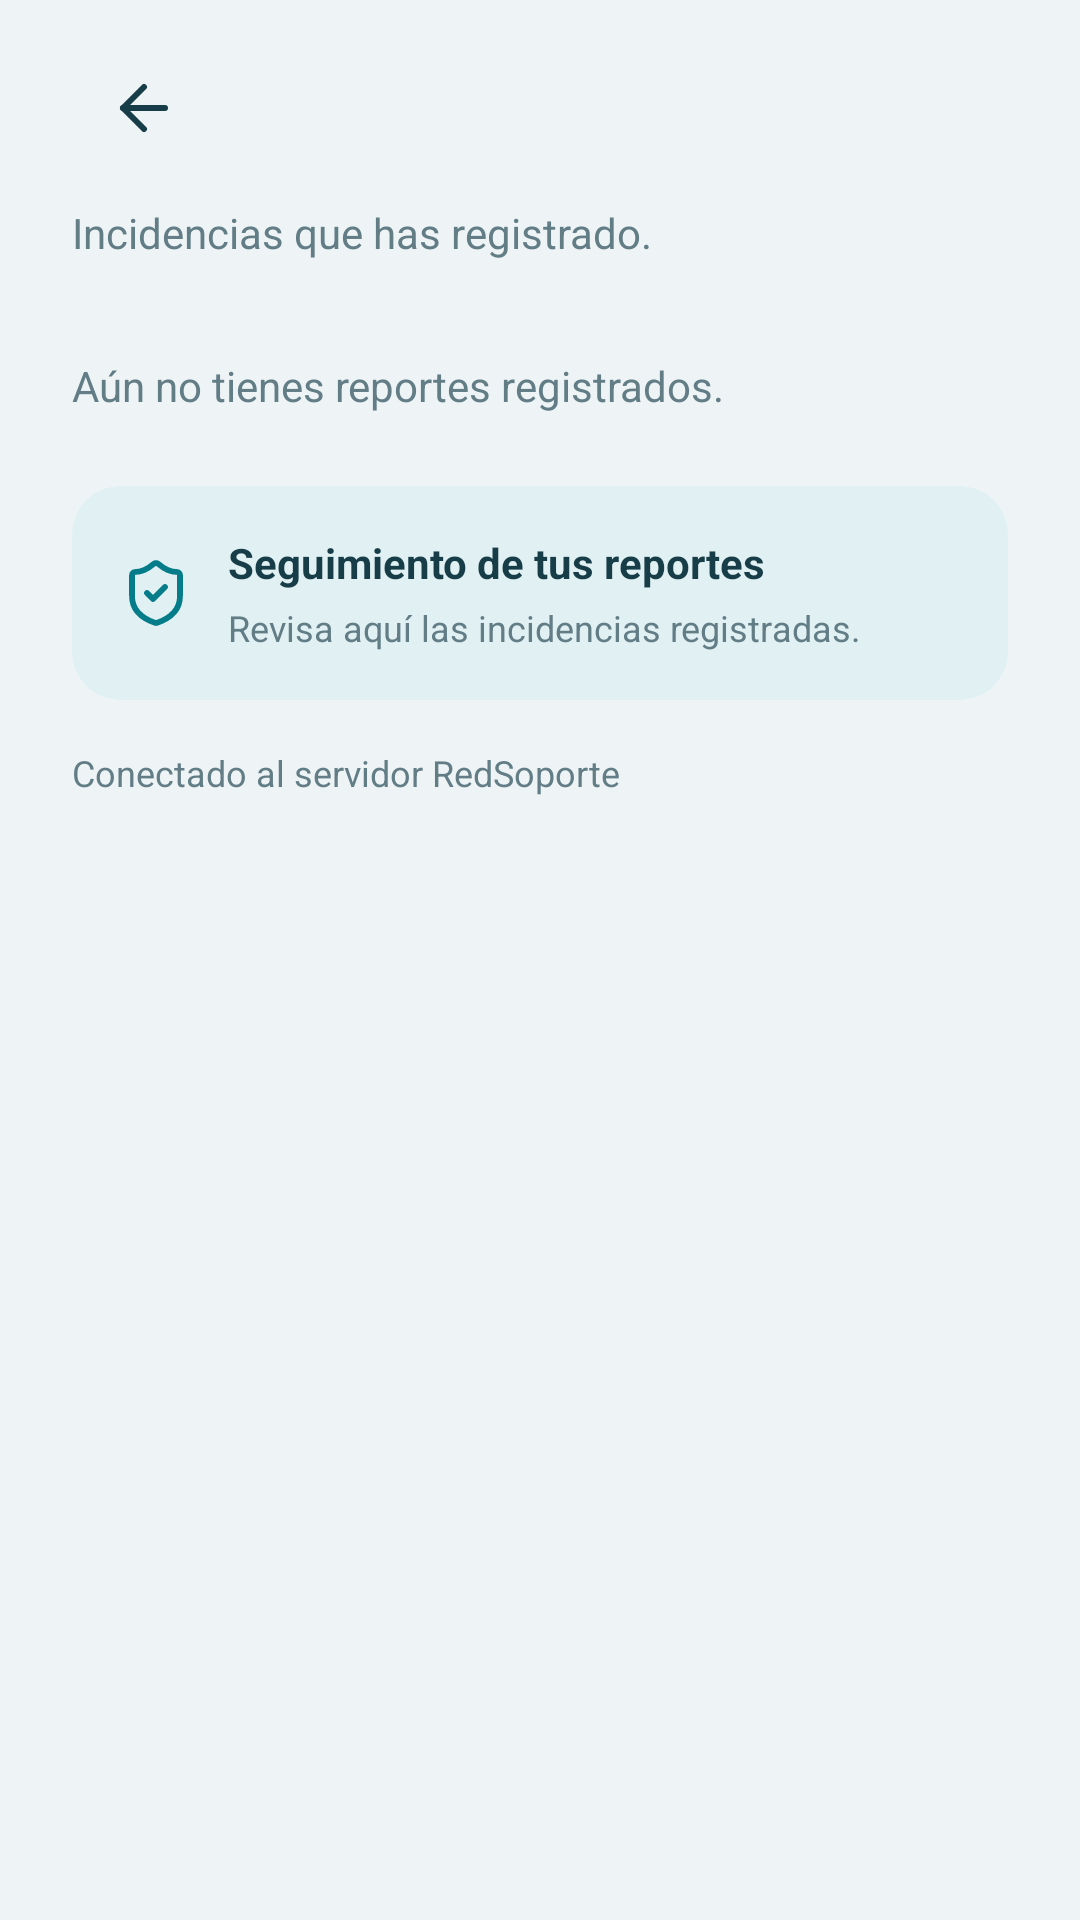

Point at icon controls on the screen. Image size 1080x1920, points as point (x, y).
Volver: point (144, 108)
